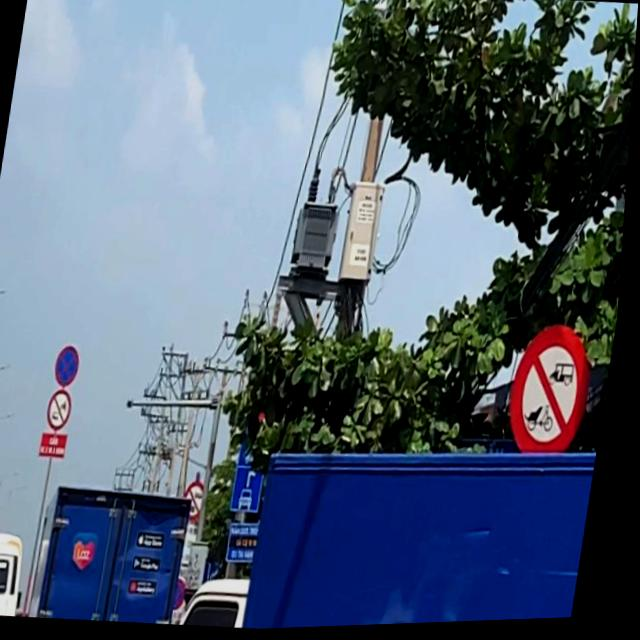Cam dung xe va do xe: (57, 344, 86, 389)
